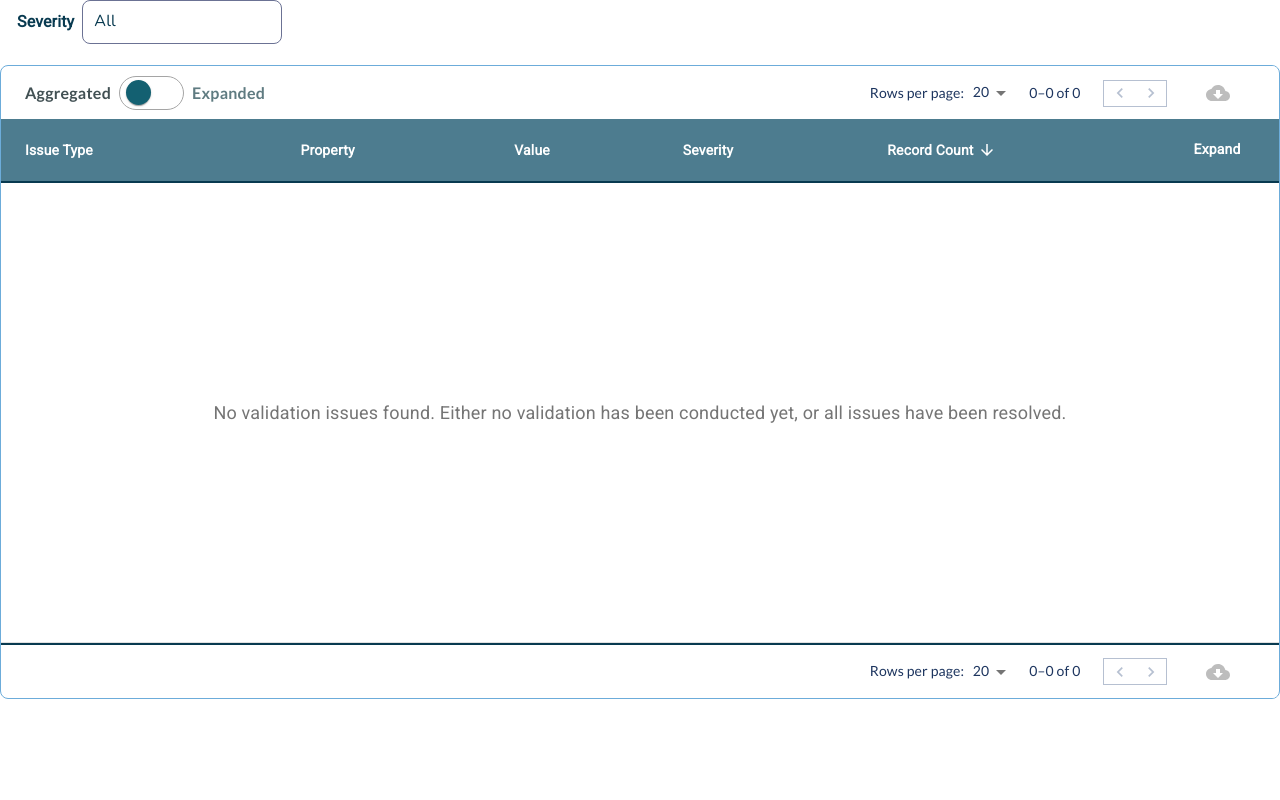
Test: Implementation Requirements › should open the error details dialog when clicking on 'other #'
Click the checkbox.
click(138, 92)  # box [126, 80, 151, 104]
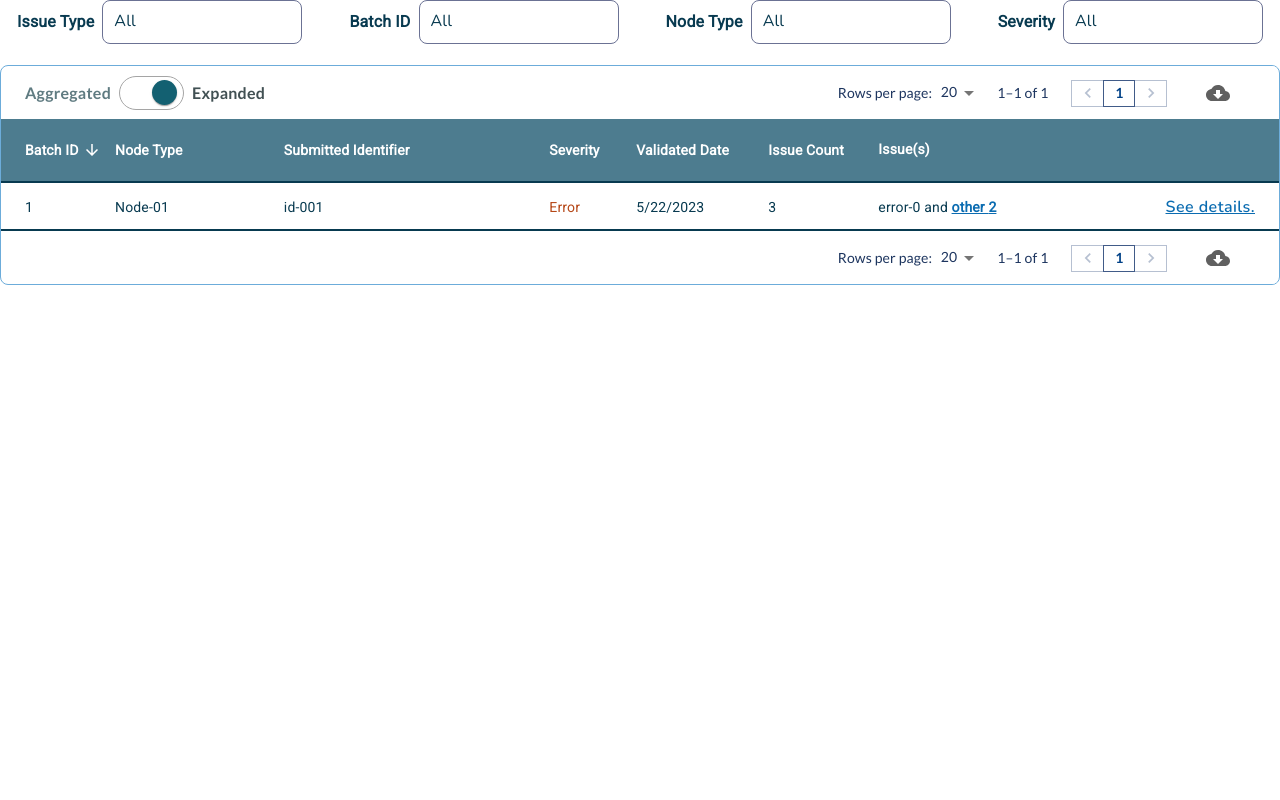
Click the text with test id "others-text".
click(970, 207)  # box [952, 199, 996, 215]
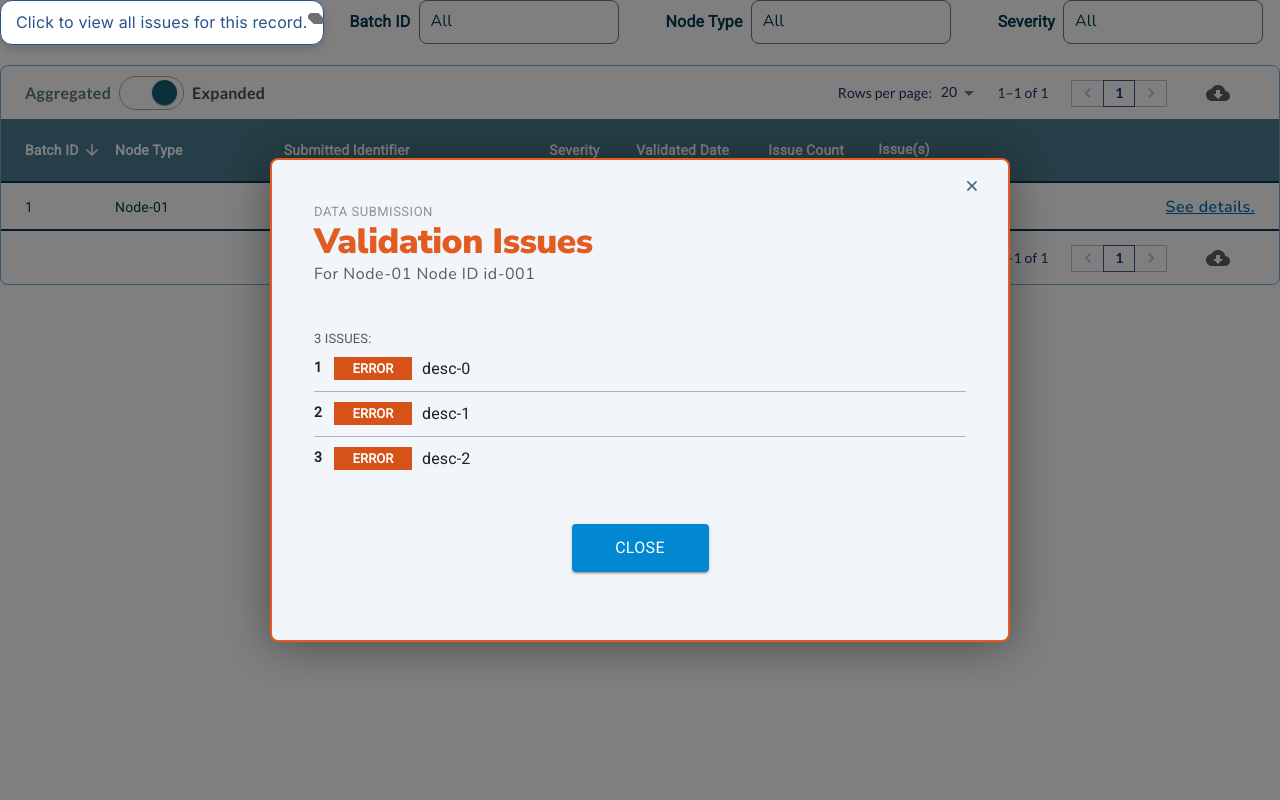
Expected: the heading "Validation Issues" is shown, [314, 218, 592, 265]
Expected: the text "For Node-01 Node ID id-001" is shown, [314, 263, 535, 285]
